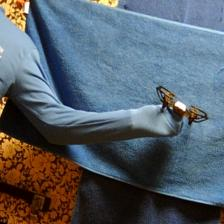drone: (152, 83, 210, 127)
